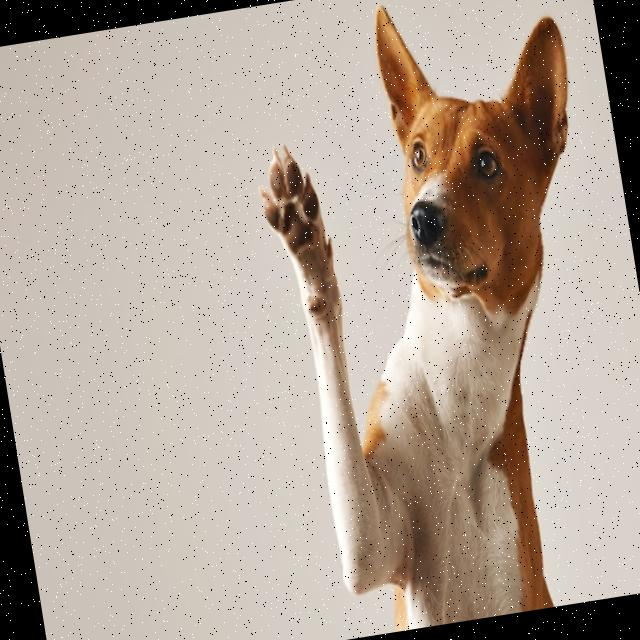Dog: (232, 0, 640, 640)
